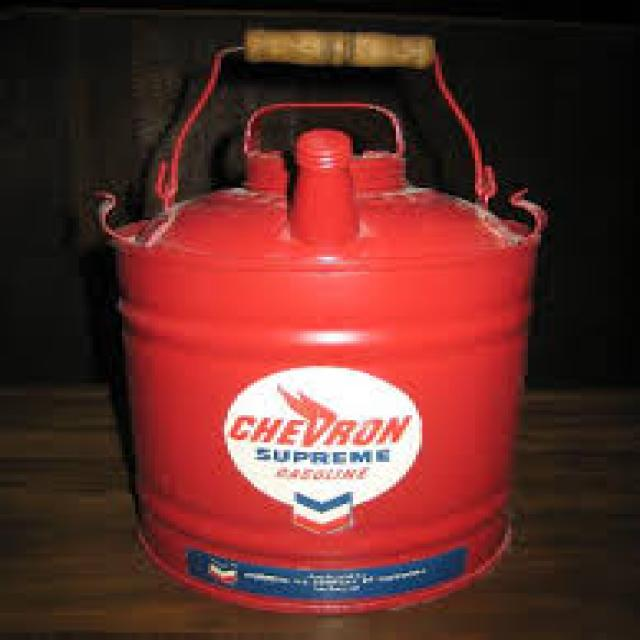gasolin: (100, 94, 546, 612)
